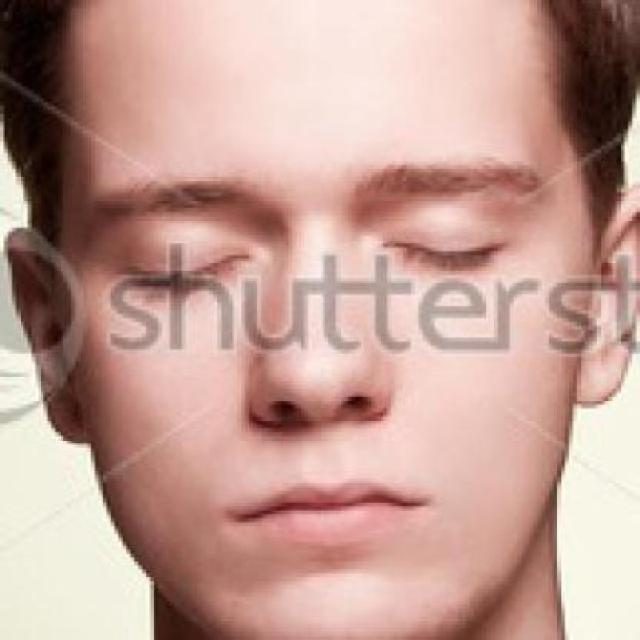drowsy: (381, 208, 508, 284), (132, 236, 246, 306)
